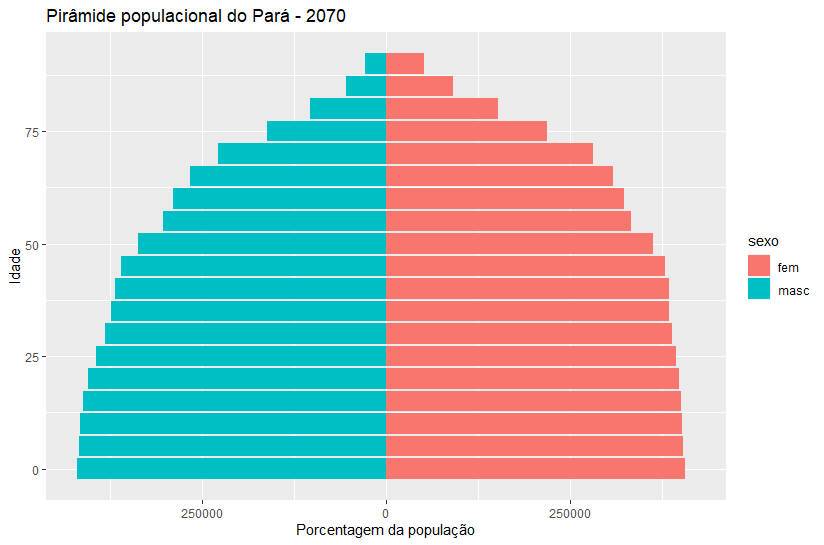

The dashboard page shown, as its layout file describes it:
{"tool":"powerbi","page":{"name":"Página 2","canvas":[1280,720],"ordinal":1},"visuals":[{"type":"clusteredBarChart","fields":{"Category":["Sheet 1.Idade"],"Y":["Sum(Sheet 1.Ecuador)","Sum(Sheet 1.Togo)","Sum(Sheet 1.Greece)"]},"box":[184.2,91.2,990.1,550.1],"z":0},{"type":"textbox","box":[576.9,59.9,205.7,31.3],"z":1}]}

Visuals, with their boxes on the page's 1280x720 design canvas (x1, y1, x2, y2). These are canvas units, not pixel positions in the 824x545 screenshot, which may show the page scaled, cropped or inside an application window:
clusteredBarChart - Sheet 1.Idade x Sum(Sheet 1.Ecuador): left=184, top=91, right=1174, bottom=641
textbox: left=577, top=60, right=783, bottom=91
